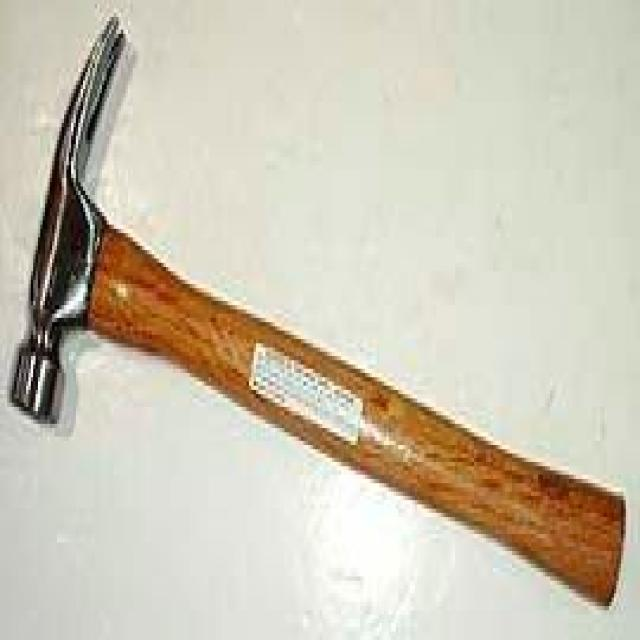hammer: (6, 0, 629, 621)
